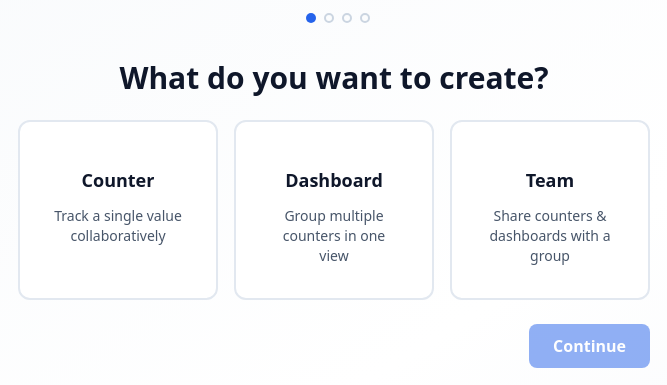
Test: Create page › continue button › advances from the preselected owner and mode without re-clicking
The width and height of the screenshot is (667, 385).
Click the button "Counter Track a single value collaboratively" at (118, 210), box [18,120,218,300]
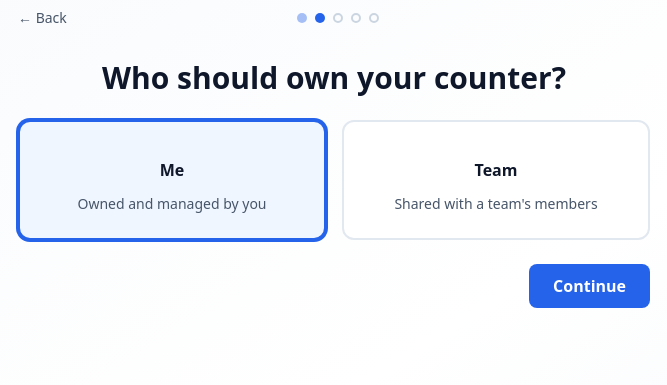
Expected: the number of headings is 1, [102,57,566,98]
Expected: the heading reads "Who should own your counter?", [102,57,566,98]
Expected: the button "Continue" is enabled
Click the button "Continue" at (590, 286), box [529,264,650,308]
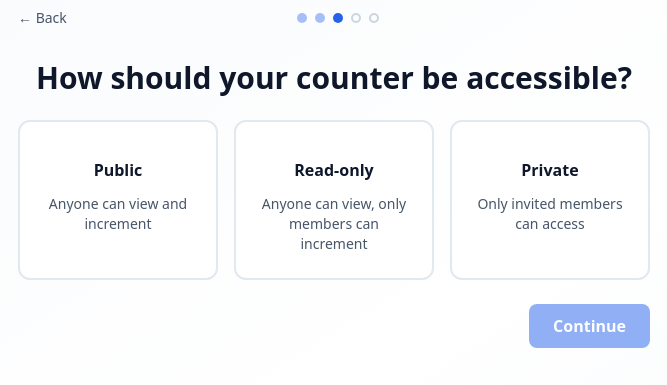
Expected: the number of headings is 1, [18,60,650,96]
Expected: the heading shows "How should your counter be accessible", [36,57,632,98]
Expected: the button "Continue" is disabled, [529,304,650,348]
Click the button "Public Anyone can view and increment" at (118, 200), box [18,120,218,280]
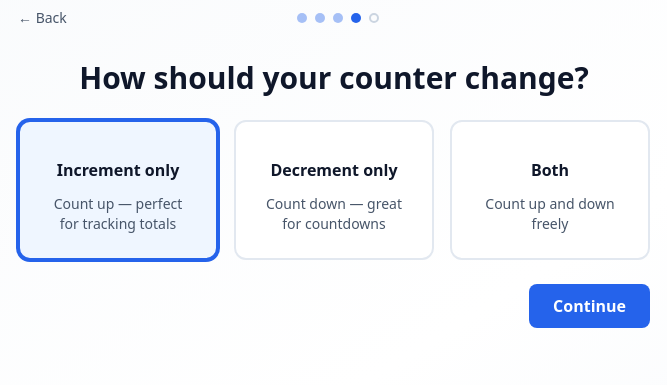
Expected: the number of headings is 1, [79,57,589,98]
Expected: the heading reads "How should your counter change?", [79,57,589,98]
Expected: the button "Continue" is enabled
Click the button "Continue" at (590, 306), box [529,284,650,328]
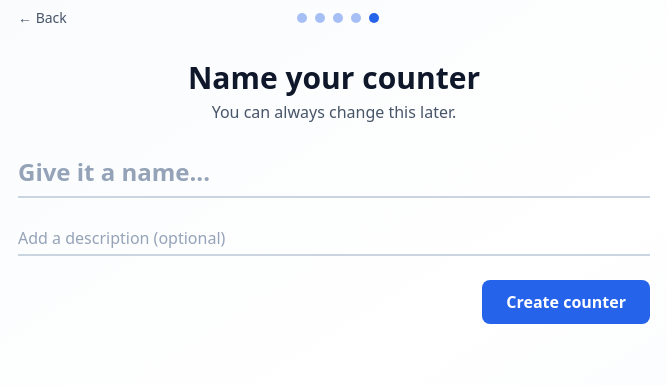
Expected: the number of headings is 1, [188,57,480,98]
Expected: the heading reads "Name your counter", [188,57,480,98]
